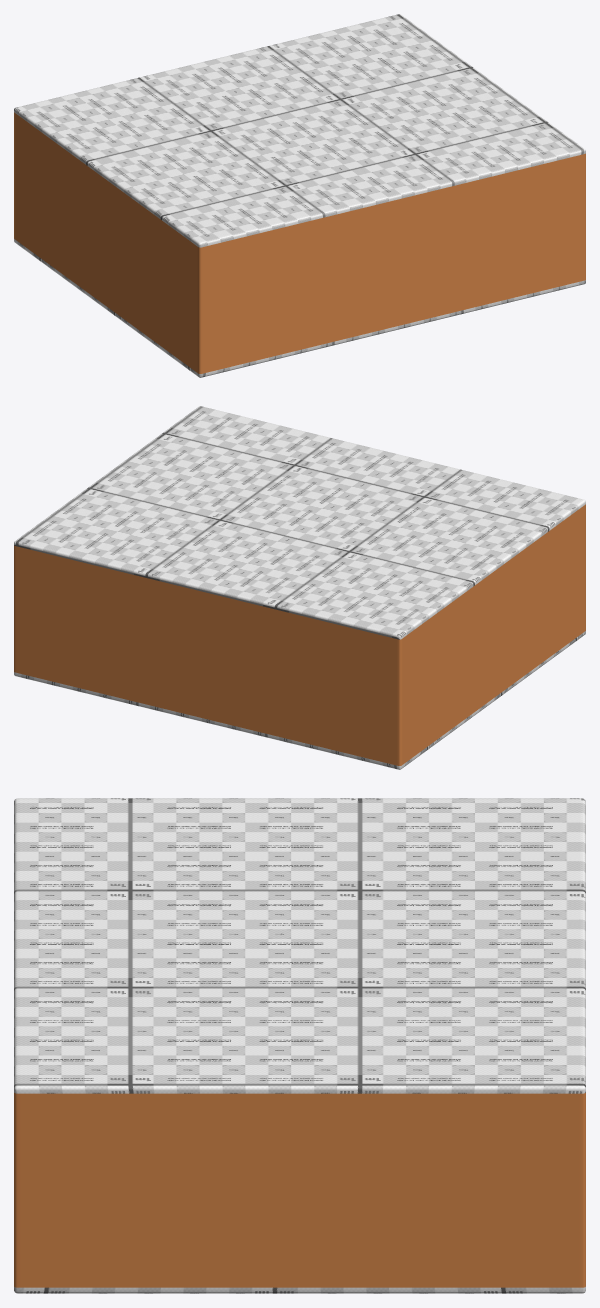
Rendered from [arch] Panel 2.5x3x1m.fbx.
3 renders of one model, top to bottom at view 1: azimuth 30°, elevation 25°; view 2: azimuth 150°, elevation 25°; view 3: azimuth 270°, elevation 25°, orthographic. The views are drawn at different scales.
Parts seen in each view (by area): view 1: [arch] Panel 2.5x3x1m; view 2: [arch] Panel 2.5x3x1m; view 3: [arch] Panel 2.5x3x1m.
Boxes of the visible parts, x1=… form: [arch] Panel 2.5x3x1m: x1=14, y1=14, x2=585, y2=377; [arch] Panel 2.5x3x1m: x1=14, y1=406, x2=585, y2=769; [arch] Panel 2.5x3x1m: x1=14, y1=798, x2=585, y2=1293.
Size of the model in its own units: 300 by 100 by 250.
